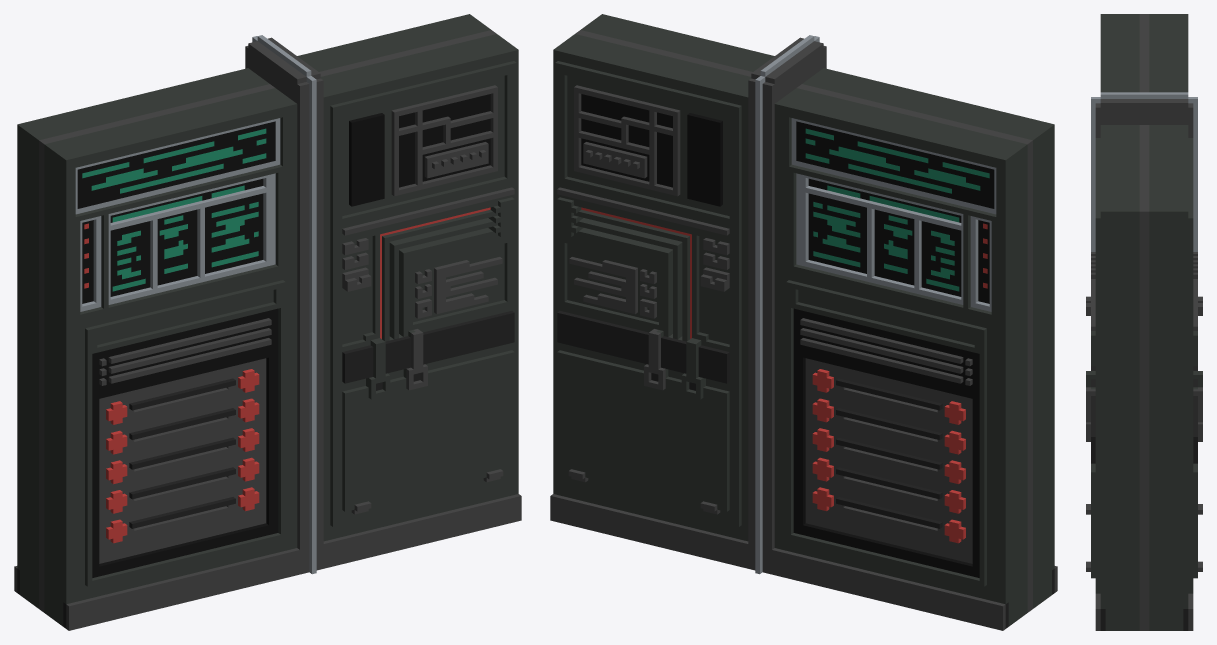
Rendered from Filler_2.obj.
3 views of the same model, side by side, from view 1: azimuth 30°, elevation 25°; view 2: azimuth 150°, elevation 25°; view 3: azimuth 270°, elevation 25° (orthographic). The views are drawn at different scales.
Bounding box in the file's own units: 96 × 101 × 24.
